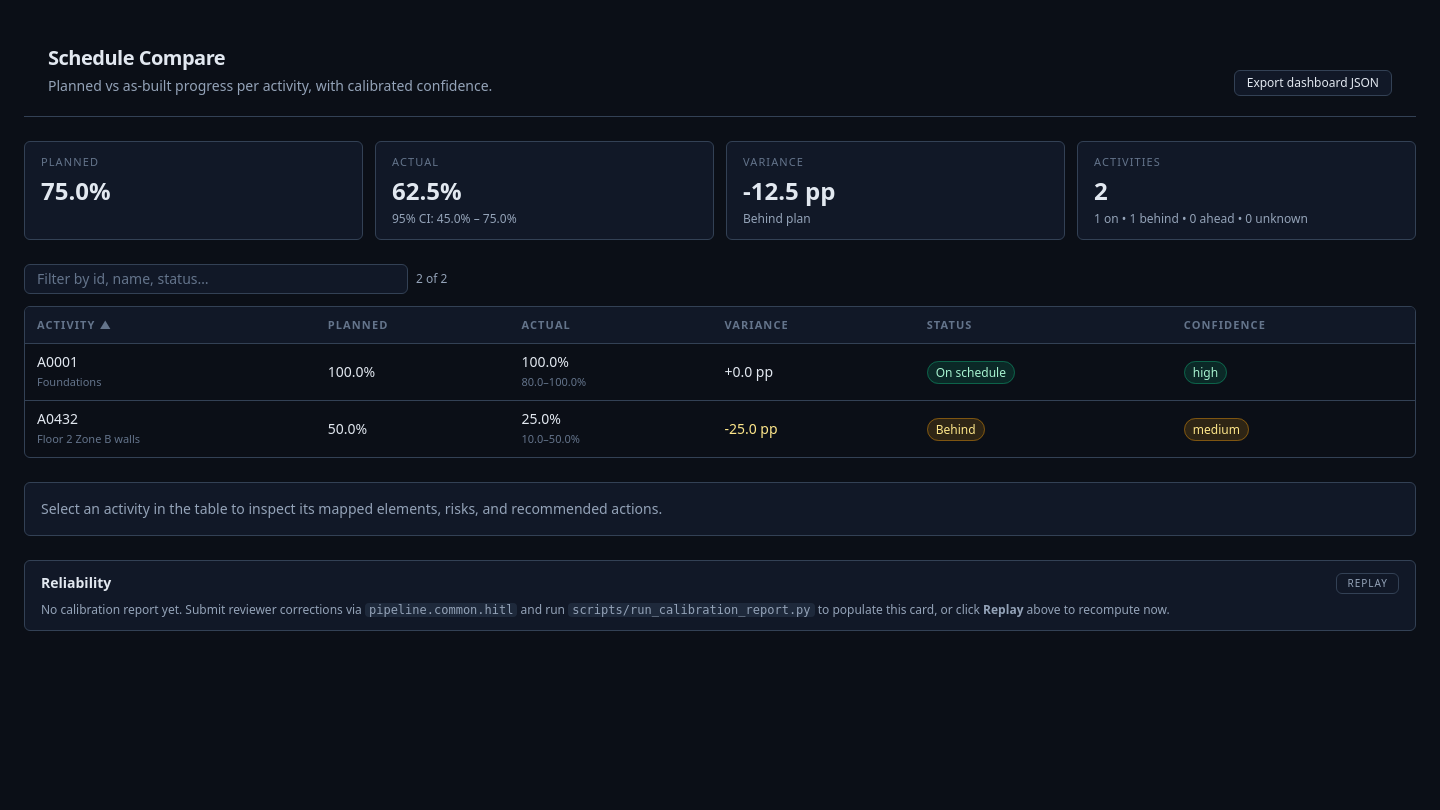
ScheduleComparePage › filters the activities table when the user types in the filter box
The image size is (1440, 810).
expect the row with test id "activity-row-A0432" is shown: met, box [25,400,1415,456]
Type "Foundations" into the field named "Filter activities" at point(216, 278), box [24,264,408,294]
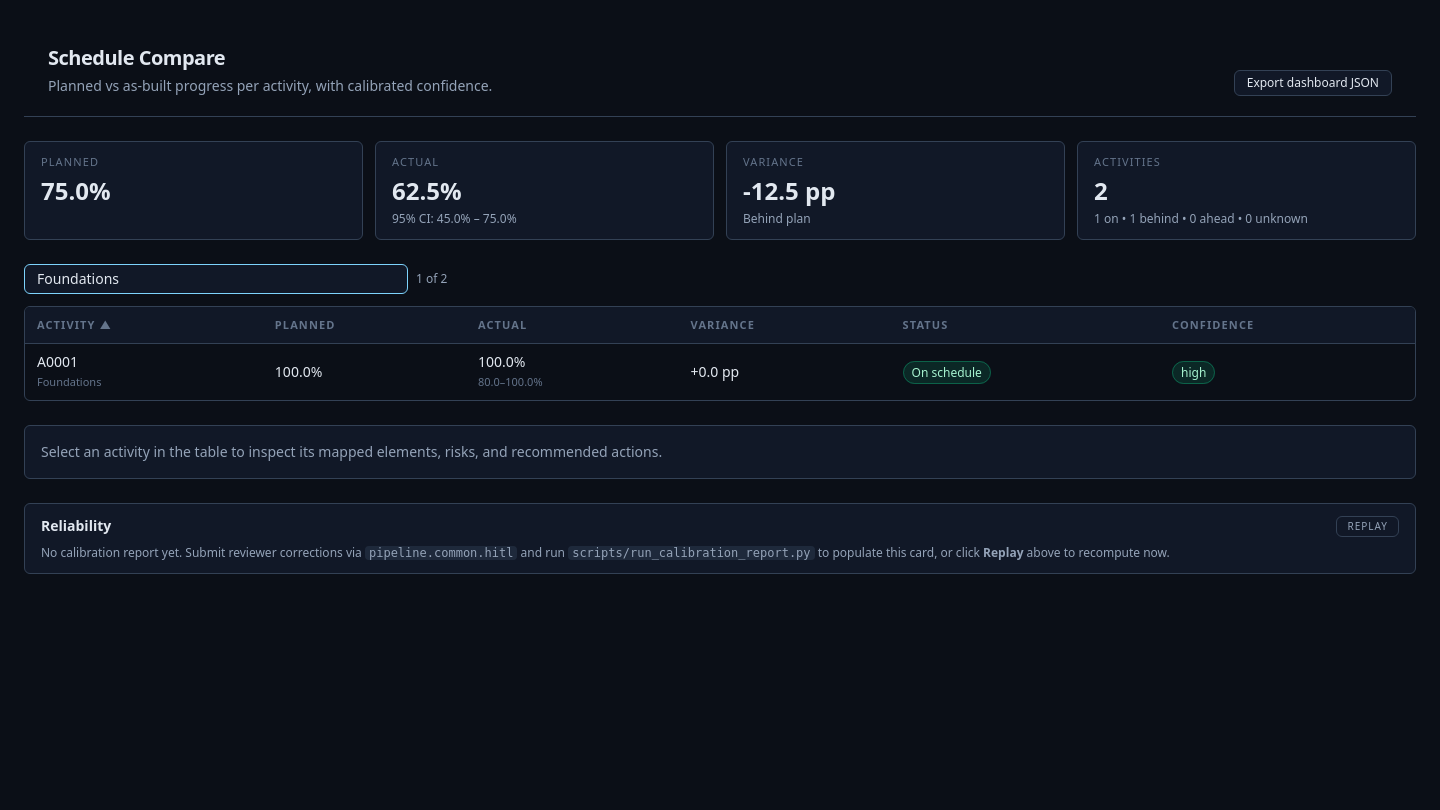
expect the row with test id "activity-row-A0001" is shown: met, box [25,343,1415,400]
expect the row with test id "activity-row-A0432" is gone: met
